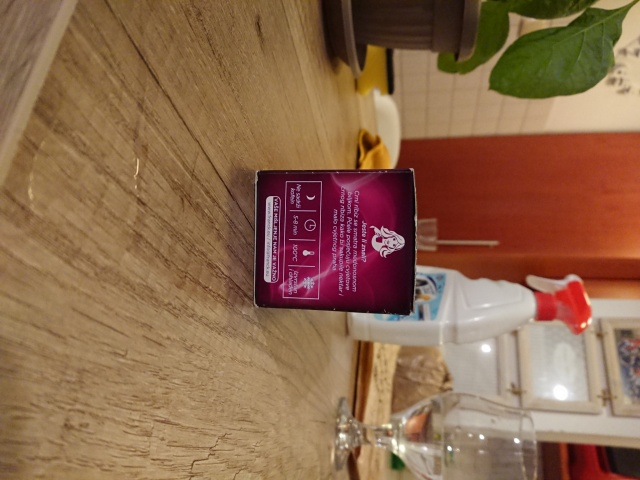Franck Black Currant Tea 60g: (250, 164, 420, 318)
